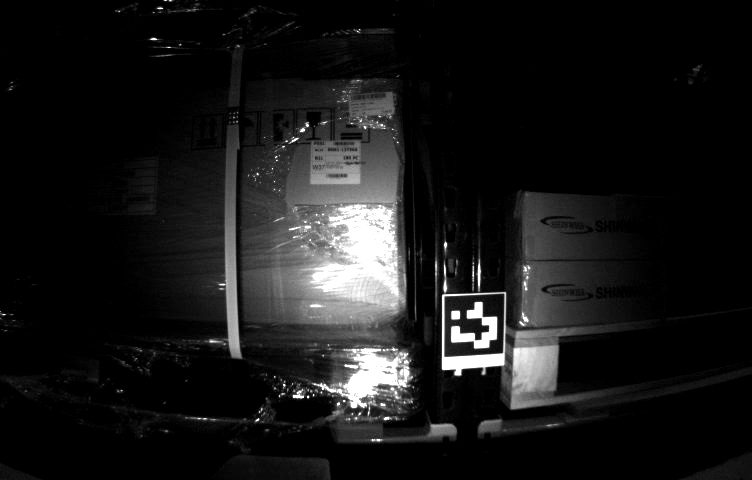True Barcode: (312, 139, 362, 187)
